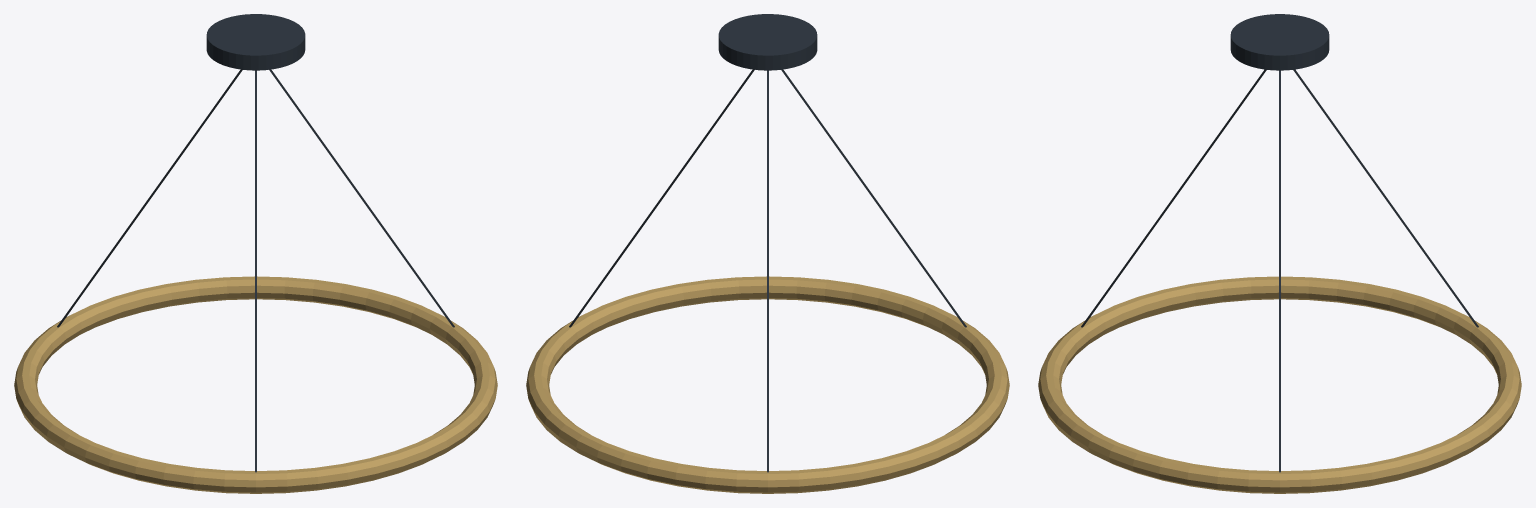
File: 03_pendant_ring.glb
The picture shows the model from 3 angles, left to right: view 1: azimuth 30°, elevation 25°; view 2: azimuth 150°, elevation 25°; view 3: azimuth 270°, elevation 25°; orthographic projection.
Size of the model in its own units: 0.588 by 0.4833 by 0.588.
